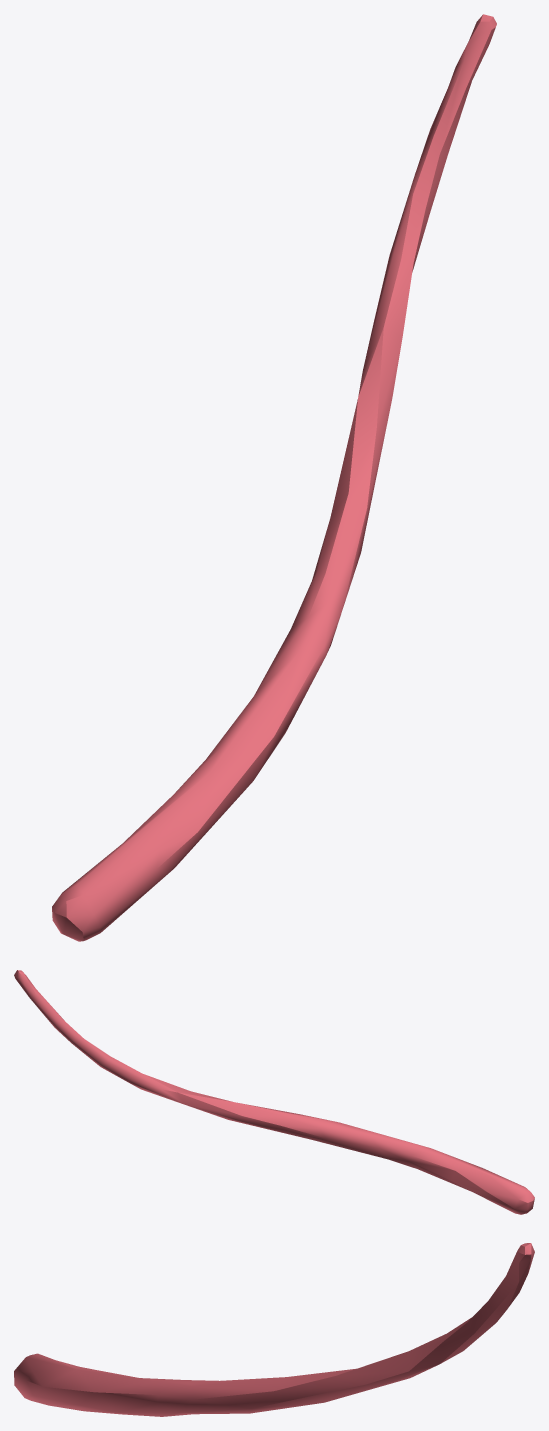
File: fma50640_fj1721m.glb
3 renders of one model, top to bottom at view 1: azimuth 30°, elevation 25°; view 2: azimuth 150°, elevation 25°; view 3: azimuth 270°, elevation 25°, orthographic. The views are drawn at different scales.
Parts seen in each view (by area): view 1: FMA50640_FJ1721M; view 2: FMA50640_FJ1721M; view 3: FMA50640_FJ1721M.
Boxes of the visible parts, x1,y1,x2,y2 form: FMA50640_FJ1721M: (52, 14, 496, 941); FMA50640_FJ1721M: (14, 970, 534, 1214); FMA50640_FJ1721M: (14, 1243, 534, 1416).
Size of the model in its own units: 0.0115 by 0.0079 by 0.00852.
